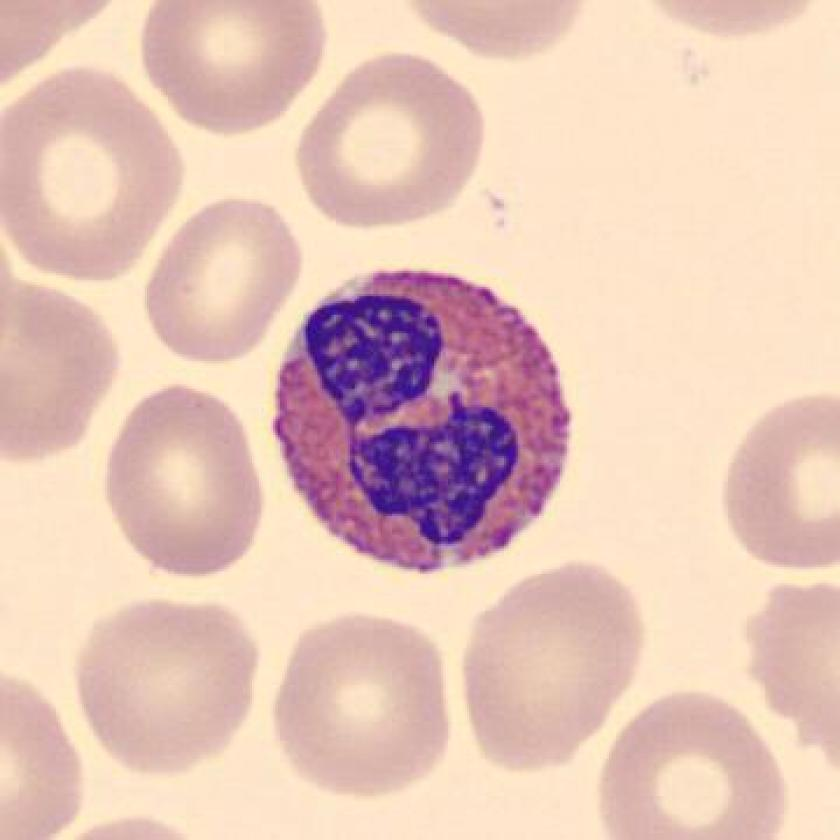eosinophil: (256, 258, 585, 584)
